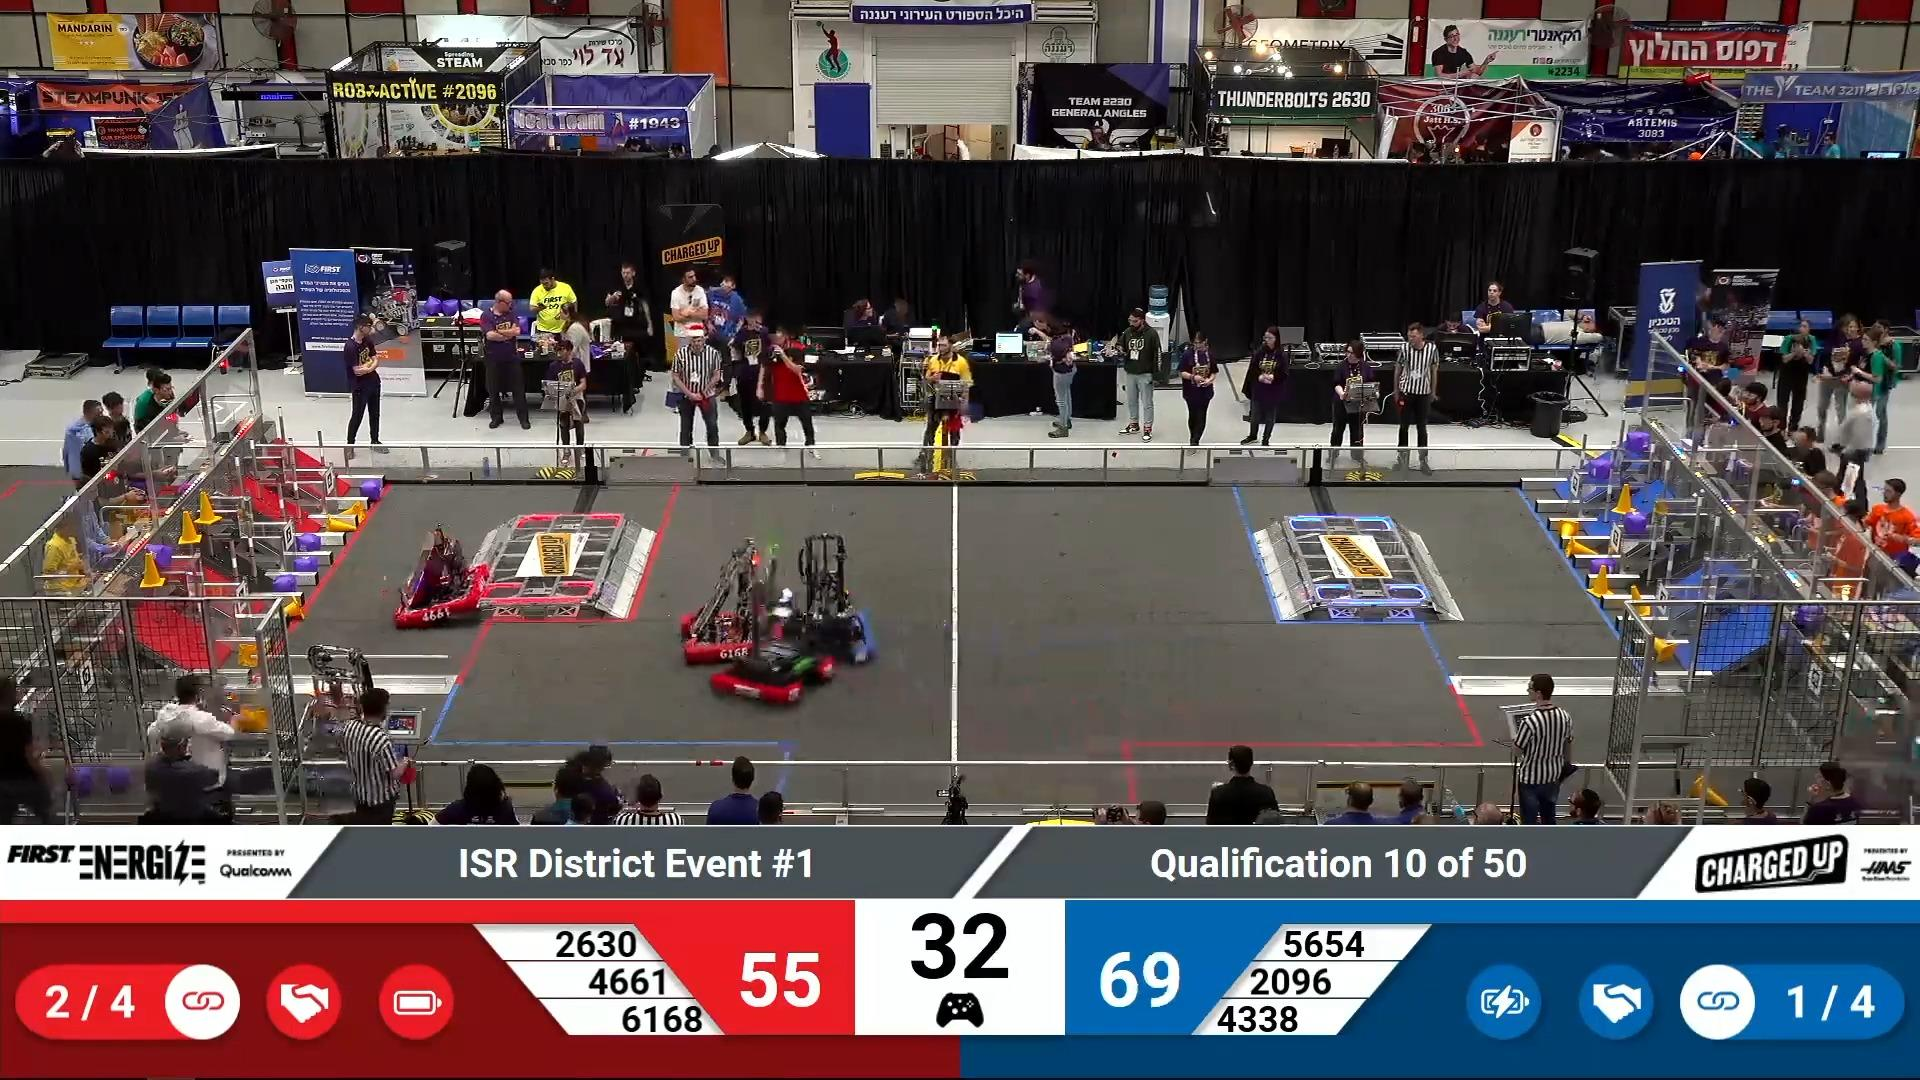robot: (293, 637, 402, 789), (775, 535, 884, 666), (679, 535, 786, 663), (711, 630, 843, 707), (389, 538, 487, 626)
